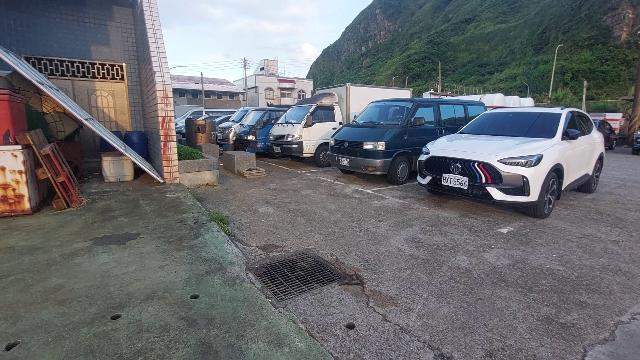pollute: (1, 71, 90, 217), (99, 150, 135, 184), (109, 130, 149, 160)
